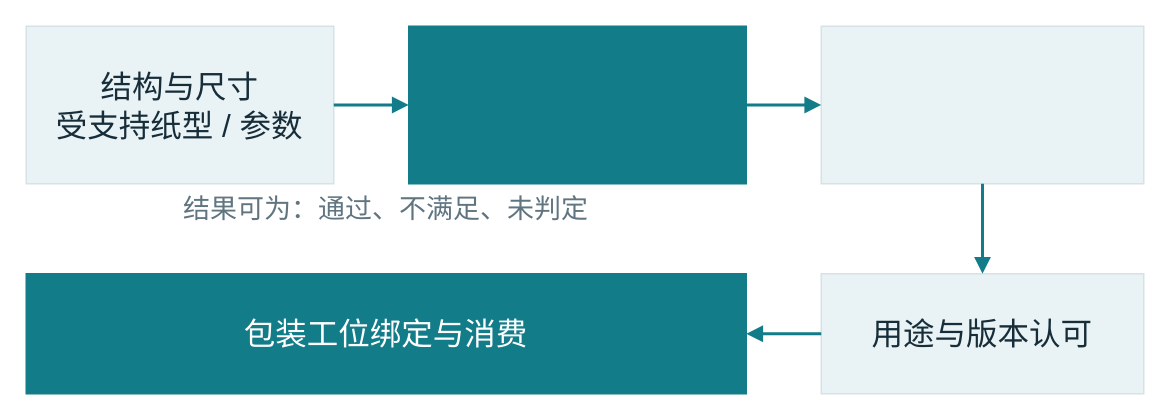
The diagram is 1170 pixels wide and 420 high, and some of its shapes have lost their labels. Each missing label, with the centre of its shape:
"专业成果 结果状态 制造层输出" goes at (x=982, y=104).
"受限计算 成型 · 开合 直线取物" goes at (x=576, y=104).
